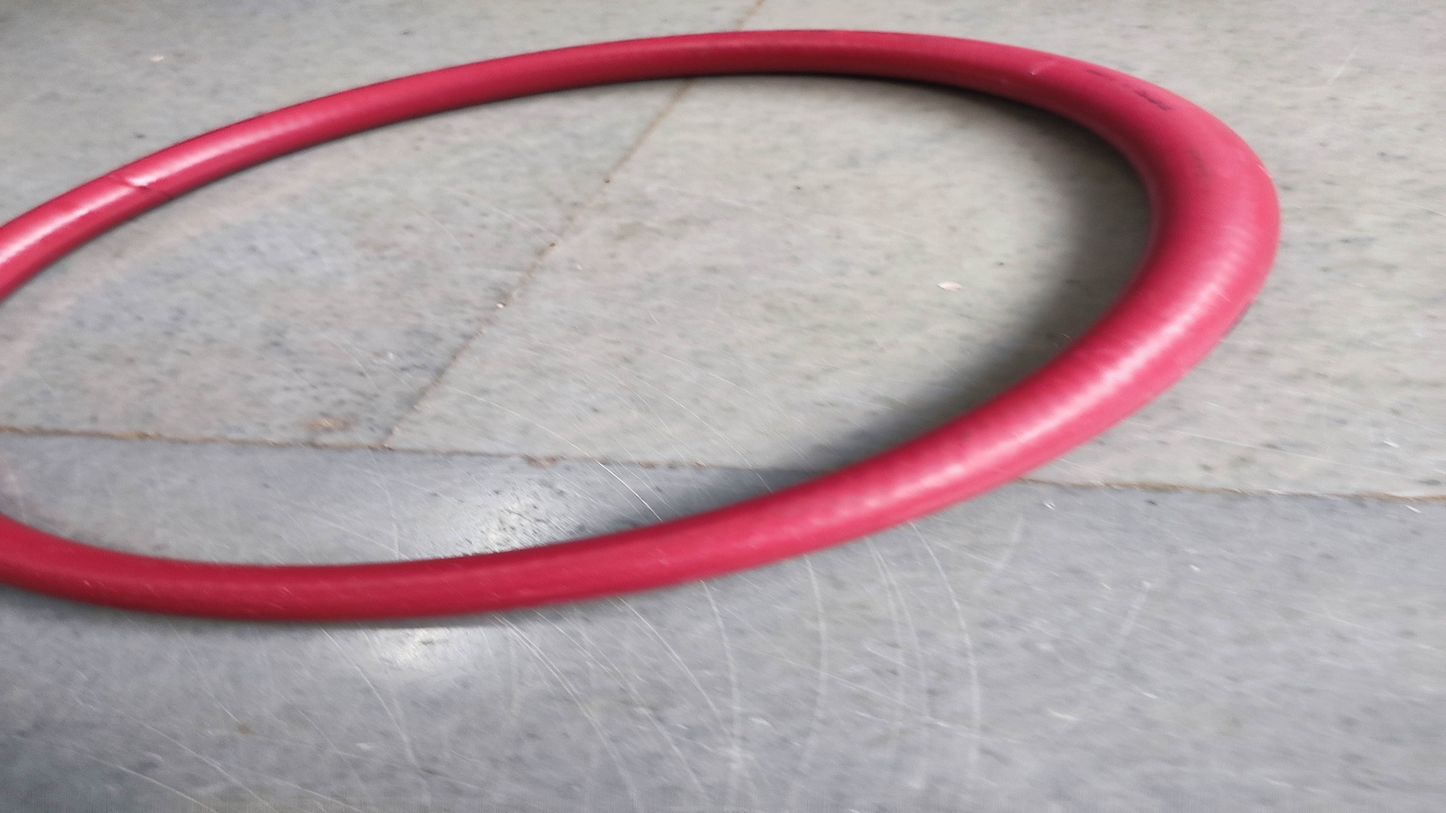Red ring: (9, 29, 1282, 627)
